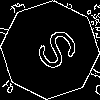S: (25, 25, 82, 81)
